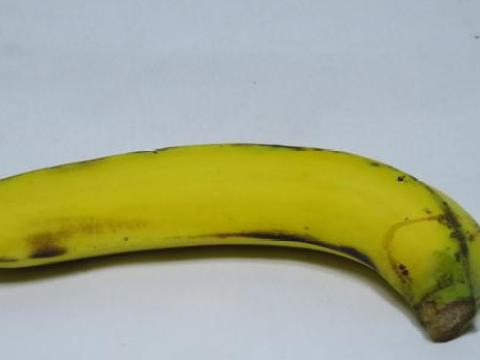freshripe: (0, 133, 479, 353)
